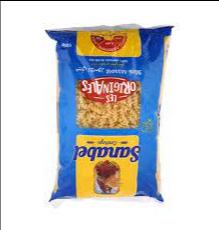Ressort: (43, 25, 172, 203)
